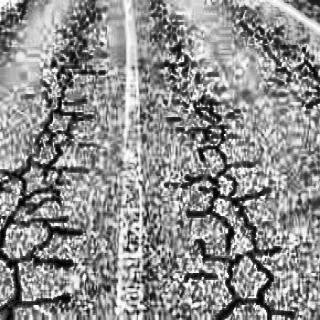crack: (152, 2, 294, 319), (0, 1, 106, 318), (237, 11, 320, 104)
